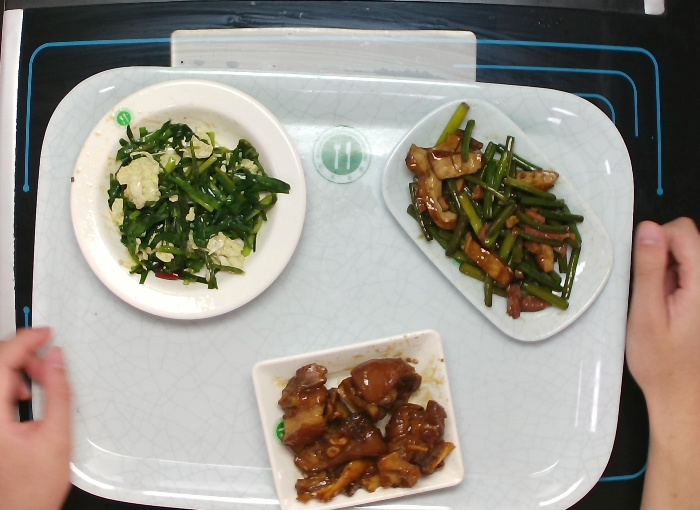WCQzf-Bai_Se_Si_Fang_Die: (254, 326, 469, 510)
WCQzf-Kuan_Bian_Yuan_Die: (66, 82, 313, 324)
WCQzf-Tuo_Yuan_Pan: (379, 94, 619, 350)
